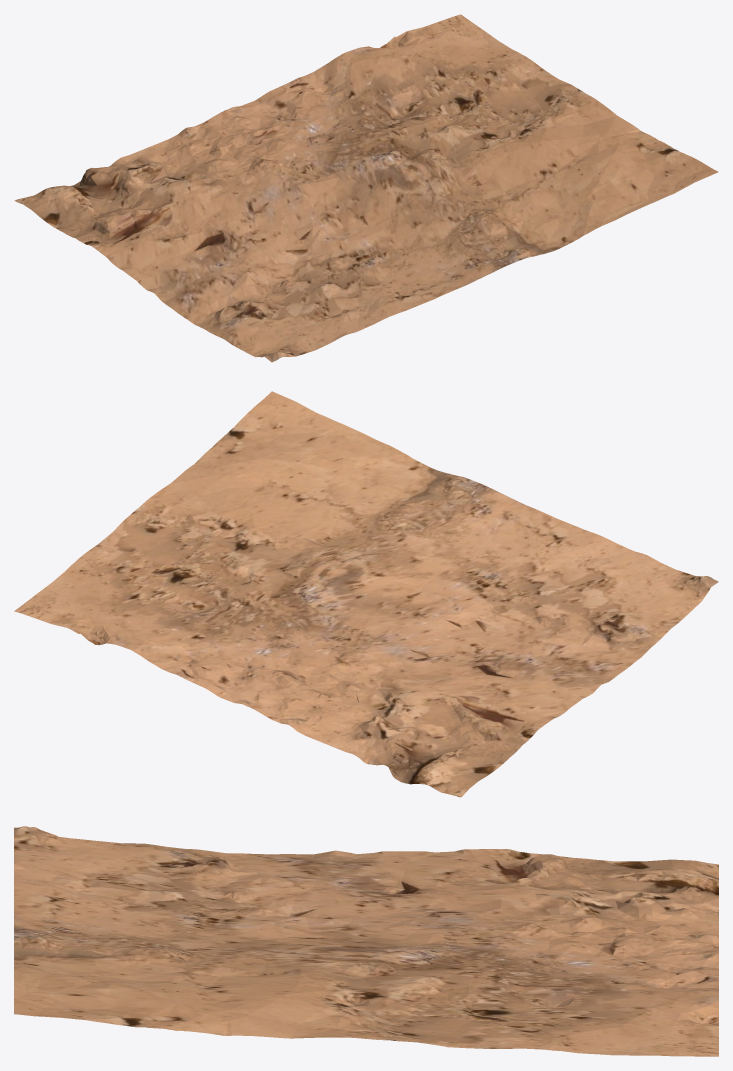
3 views of the same model, one above another, from view 1: azimuth 30°, elevation 25°; view 2: azimuth 150°, elevation 25°; view 3: azimuth 270°, elevation 25° (orthographic). The views are drawn at different scales.
Size of the model in its own units: 2.09 by 0.4847 by 2.09.
Materials: 2 (2 with a texture image).
